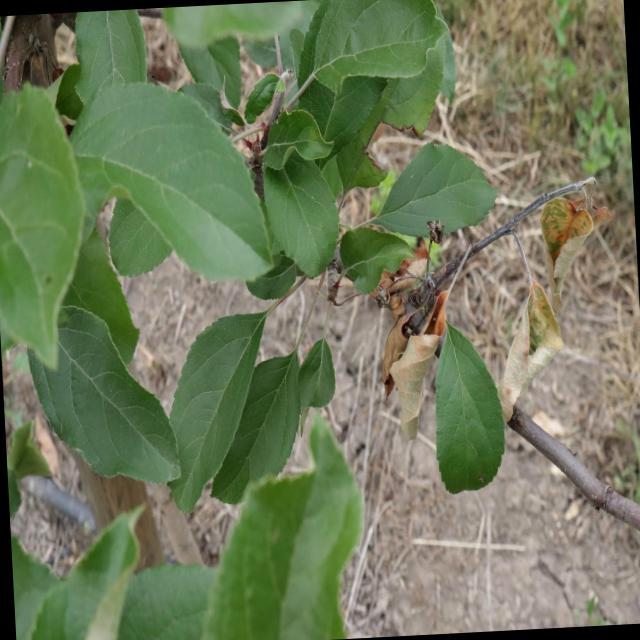-FireBlight-: (491, 190, 592, 418), (375, 252, 456, 441)
